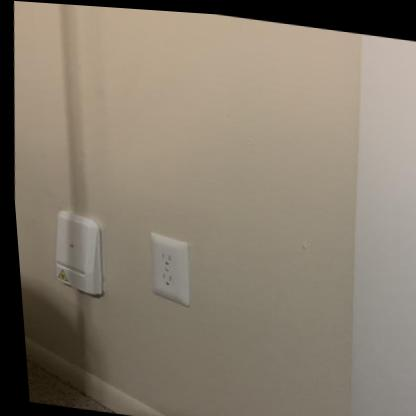OUTLET: (145, 228, 195, 304)
